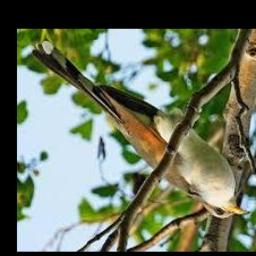Cuckoo: (32, 40, 249, 218)
